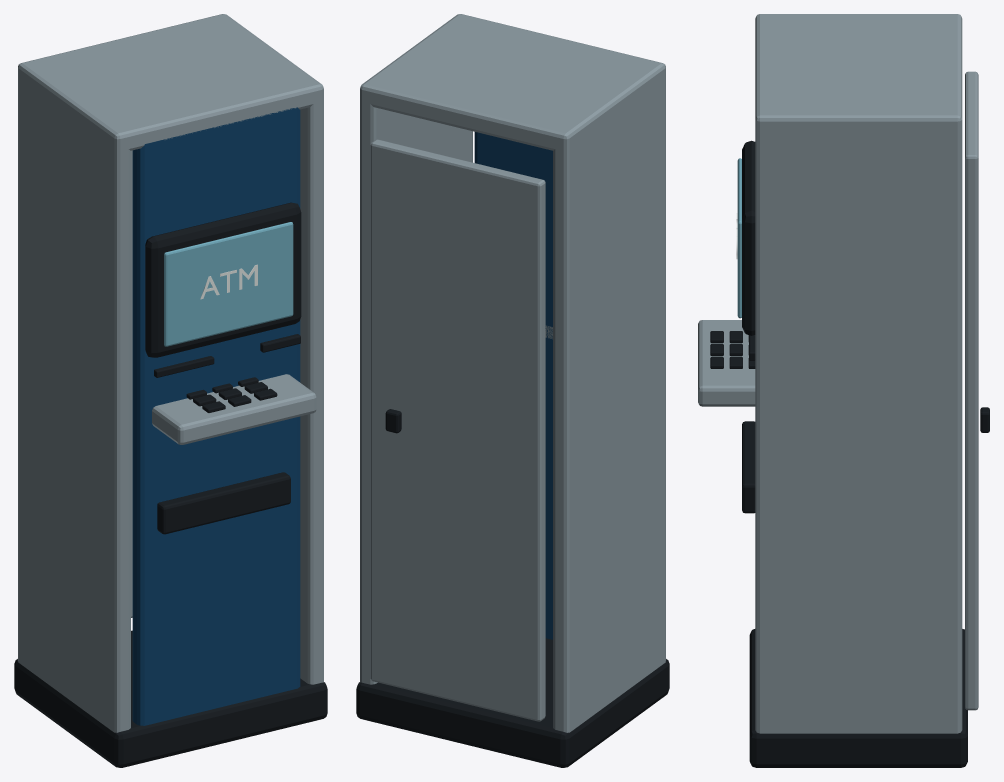
Rendered from edited.glb.
3 renders of one model, left to right at view 1: azimuth 30°, elevation 25°; view 2: azimuth 150°, elevation 25°; view 3: azimuth 270°, elevation 25°, orthographic. The views are drawn at different scales.
Parts seen in each view (by area): view 1: BODY_Front, BODY_Side.001, BODY_Roof, BODY_Side, SCREEN_Placeholder, PLINTH, SCREEN_Bezel, KEYPAD_Console, CASH_Mouth, KEYPAD_Keys, DOOR_Panel, RECEIPT_Slot; view 2: DOOR_Panel, BODY_Side.001, BODY_Roof, PLINTH, BODY_Side, BODY_Front; view 3: BODY_Side, BODY_Roof, DOOR_Panel, PLINTH, KEYPAD_Console, SCREEN_Bezel, CASH_Mouth, KEYPAD_Keys, SCREEN_Placeholder.
Part boxes in pixels (box(x1,y1,x2,y2)): BODY_Front: box(132, 107, 300, 725); BODY_Side.001: box(18, 78, 130, 732); BODY_Roof: box(18, 14, 323, 151); BODY_Side: box(300, 100, 323, 684); SCREEN_Placeholder: box(164, 222, 293, 346); PLINTH: box(14, 630, 327, 767); SCREEN_Bezel: box(145, 202, 301, 357); KEYPAD_Console: box(152, 374, 316, 444); CASH_Mouth: box(157, 472, 290, 534); KEYPAD_Keys: box(186, 377, 277, 412); DOOR_Panel: box(131, 150, 132, 617); RECEIPT_Slot: box(154, 356, 214, 377); DOOR_Panel: box(370, 139, 545, 721); BODY_Side.001: box(553, 79, 665, 732); BODY_Roof: box(360, 14, 665, 151); PLINTH: box(356, 638, 669, 767); BODY_Side: box(360, 100, 472, 684); BODY_Front: box(474, 132, 552, 639); BODY_Side: box(755, 130, 962, 733); BODY_Roof: box(755, 14, 962, 133); DOOR_Panel: box(965, 71, 978, 710); PLINTH: box(749, 629, 967, 767); KEYPAD_Console: box(698, 320, 755, 406); SCREEN_Bezel: box(742, 140, 755, 335); CASH_Mouth: box(742, 421, 755, 513); KEYPAD_Keys: box(710, 331, 755, 368); SCREEN_Placeholder: box(737, 158, 741, 318).
Bounding box in the file's own units: 0.66 × 1.88 × 0.7625.
